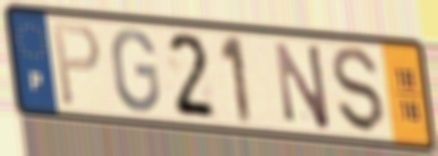1: (218, 33, 256, 127)
2: (164, 31, 217, 123)
G: (109, 26, 163, 115)
N: (271, 39, 333, 133)
P: (50, 20, 103, 110)
S: (330, 45, 388, 137)
